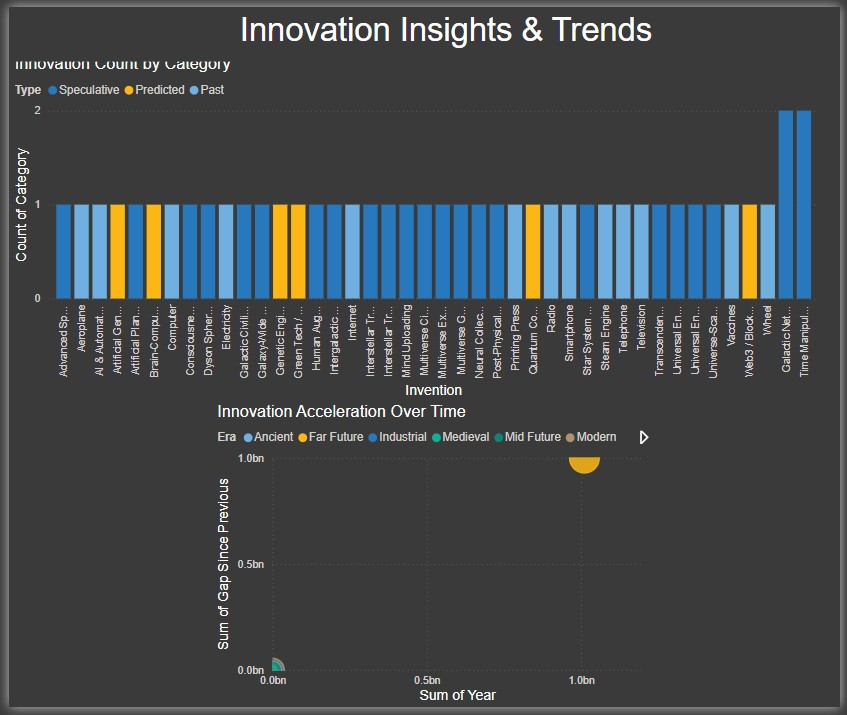

Layout of this report page (visuals, bound fields, positions):
{"tool":"powerbi","page":{"name":"Analysis","canvas":[950,800],"ordinal":1},"visuals":[{"type":"columnChart","title":"Innovation Count by Category","fields":{"Category":["Technological_Revolutions_Final.Invention"],"Y":["CountNonNull(Technological_Revolutions_Final.Category)"],"Series":["Technological_Revolutions_Final.Type"]},"box":[1.2,53.8,928.8,397.5],"z":0},{"type":"scatterChart","title":"Innovation Acceleration Over Time","fields":{"X":["Sum(Technological_Revolutions_Final.Year)"],"Y":["Sum(Technological_Revolutions_Final.Gap_Since_Previous)"],"Size":["Sum(Technological_Revolutions_Final.Impact_Level)"],"Series":["Technological_Revolutions_Final.Era"]},"box":[232.5,451.2,512.5,348.8],"z":1000},{"type":"textbox","box":[0,0,998.8,62.5],"z":2000}]}

Visuals, with their boxes in screenshot pixels (x1, y1, x2, y2), scaled from the page's 950x800 canvas onto the 847x715 screenshot:
"Innovation Count by Category" columnChart: x1=1, y1=48, x2=829, y2=403
"Innovation Acceleration Over Time" scatterChart: x1=207, y1=403, x2=664, y2=714
textbox: x1=0, y1=0, x2=846, y2=56
